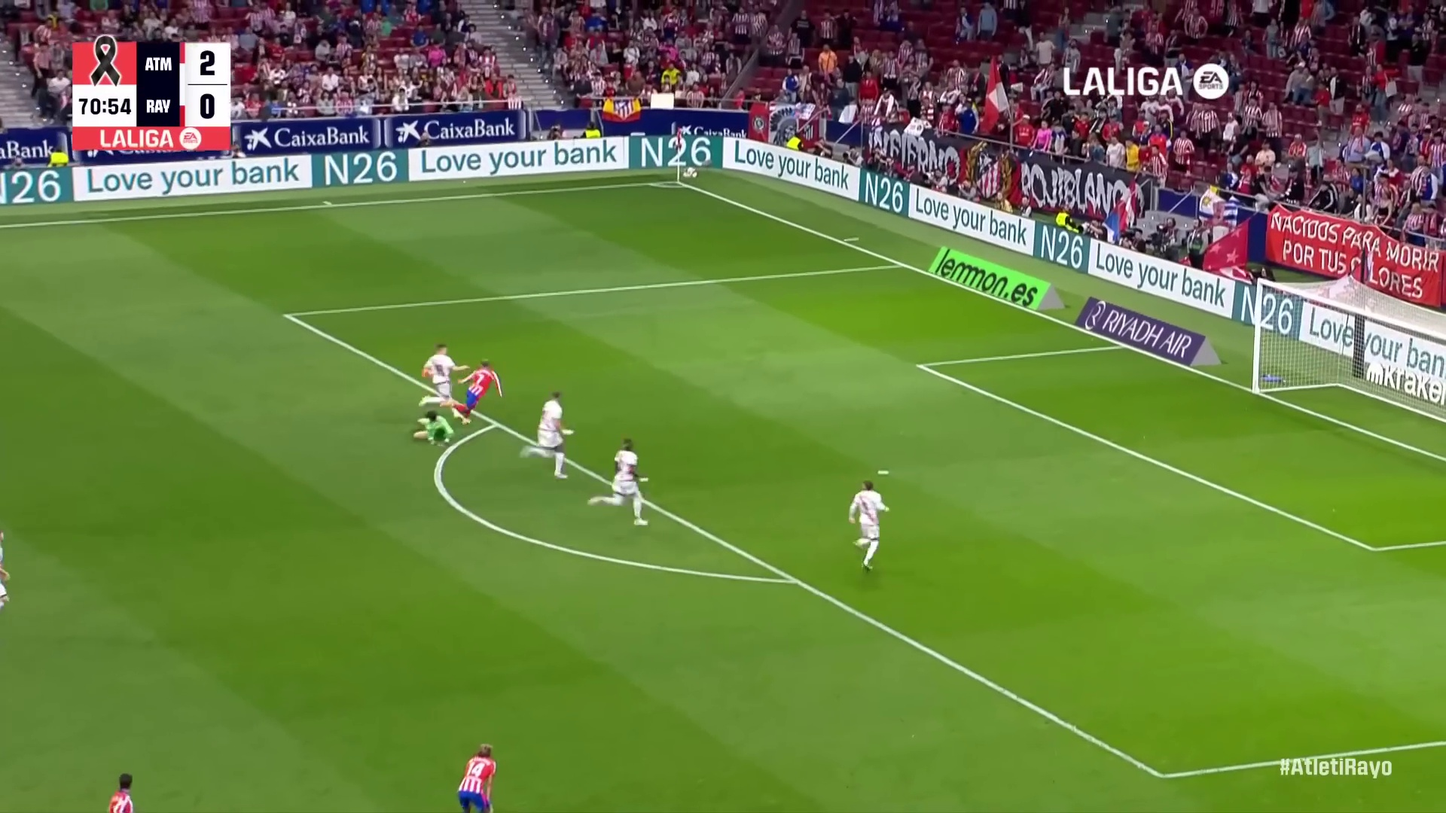player: (585, 437, 656, 530), (518, 389, 578, 482), (843, 479, 895, 574), (412, 342, 466, 421), (448, 741, 502, 812), (452, 360, 505, 424), (409, 411, 455, 448), (0, 507, 15, 616), (105, 771, 137, 813)
